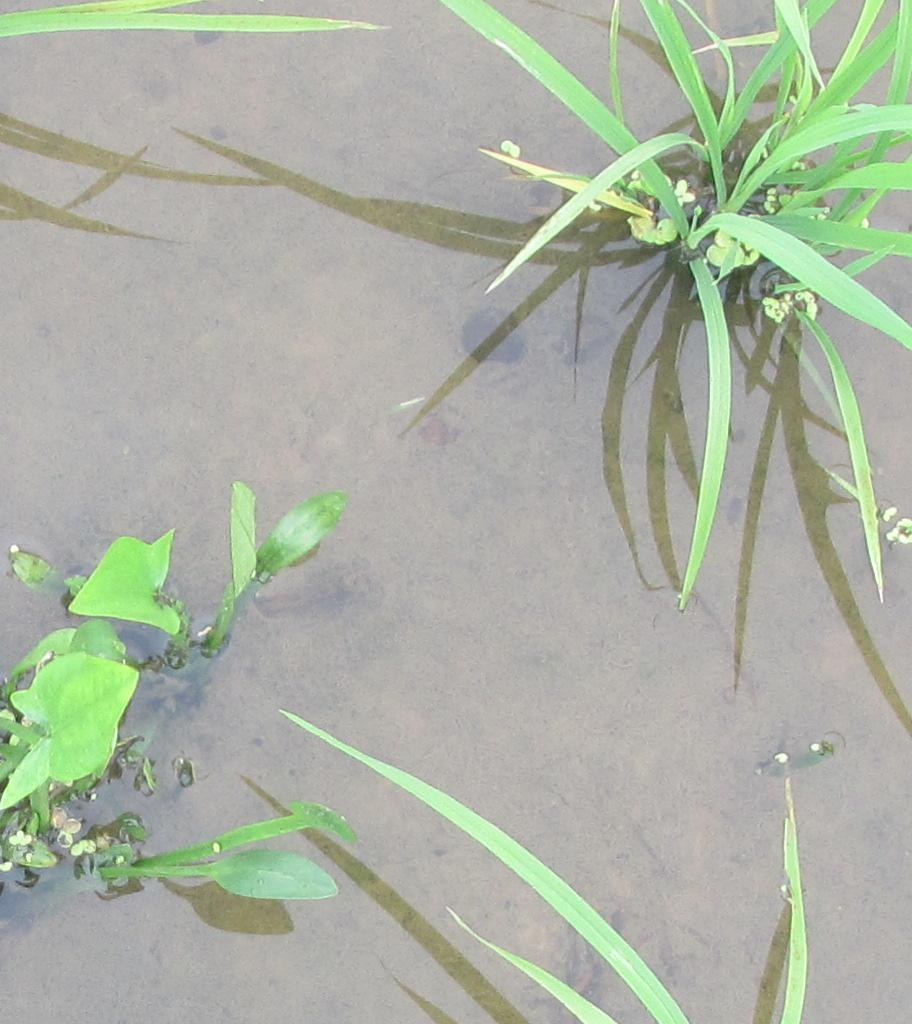Weed: (10, 500, 346, 917)
